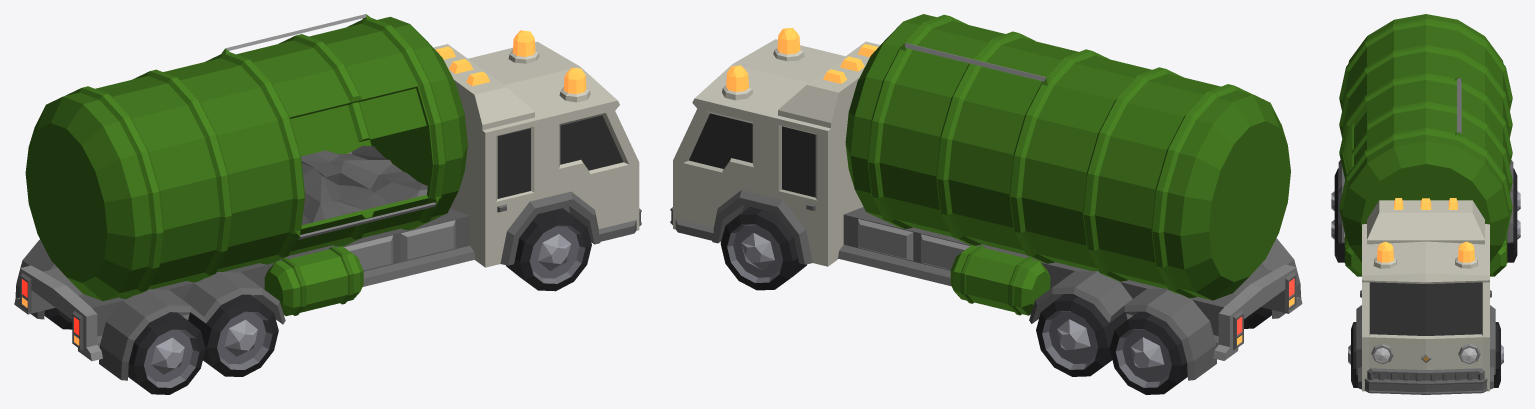
File: car_garbage_3.fbx
The picture shows the model from 3 angles, left to right: view 1: azimuth 30°, elevation 25°; view 2: azimuth 150°, elevation 25°; view 3: azimuth 270°, elevation 25°; orthographic projection. The views are drawn at different scales.
Parts seen in each view (by area): view 1: car_garbage_3, car_garbage_wheels_B1.005, car_garbage_wheels_B1.003, car_garbage_wheels_F.003; view 2: car_garbage_3, car_garbage_wheels_B1.005, car_garbage_wheels_B1.003, car_garbage_wheels_F.003; view 3: car_garbage_3, car_garbage_wheels_B1.003, car_garbage_wheels_F.003, car_garbage_wheels_B1.005.
Boxes of the visible parts, left/top/right/bottom form: car_garbage_3: left=14, top=14, right=641, bottom=380; car_garbage_wheels_B1.005: left=44, top=308, right=205, bottom=394; car_garbage_wheels_B1.003: left=188, top=294, right=278, bottom=376; car_garbage_wheels_F.003: left=506, top=208, right=591, bottom=291; car_garbage_3: left=670, top=14, right=1302, bottom=380; car_garbage_wheels_B1.005: left=1109, top=307, right=1271, bottom=394; car_garbage_wheels_B1.003: left=1036, top=294, right=1127, bottom=376; car_garbage_wheels_F.003: left=720, top=206, right=806, bottom=290; car_garbage_3: left=1338, top=14, right=1513, bottom=394; car_garbage_wheels_B1.003: left=1331, top=196, right=1520, bottom=262; car_garbage_wheels_F.003: left=1348, top=322, right=1503, bottom=387; car_garbage_wheels_B1.005: left=1331, top=168, right=1520, bottom=210.
Bounding box in the file's own units: 1138 × 508 × 419.
